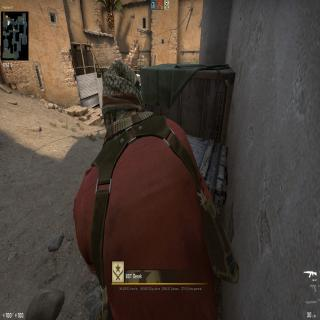T-Head: (101, 58, 144, 127)
